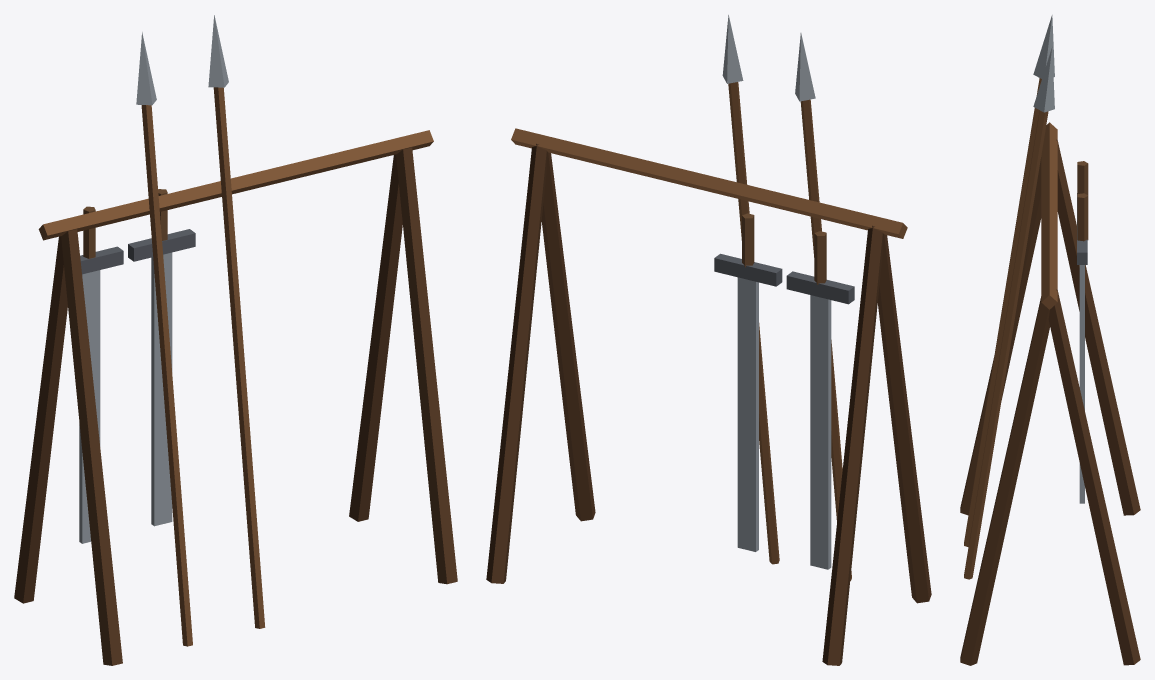
Rendered from pile_weapons_1.glb.
The picture shows the model from 3 angles, left to right: view 1: azimuth 30°, elevation 25°; view 2: azimuth 150°, elevation 25°; view 3: azimuth 270°, elevation 25°; orthographic projection. The views are drawn at different scales.
Parts seen in each view (by area): view 1: pile_weapons_1; view 2: pile_weapons_1; view 3: pile_weapons_1.
Boxes of the visible parts, x1,y1,x2,y2 form: pile_weapons_1: (14, 15, 457, 665); pile_weapons_1: (486, 15, 931, 665); pile_weapons_1: (960, 15, 1140, 665).
Bounding box in the file's own units: 1.5 × 2.16 × 0.6621.
